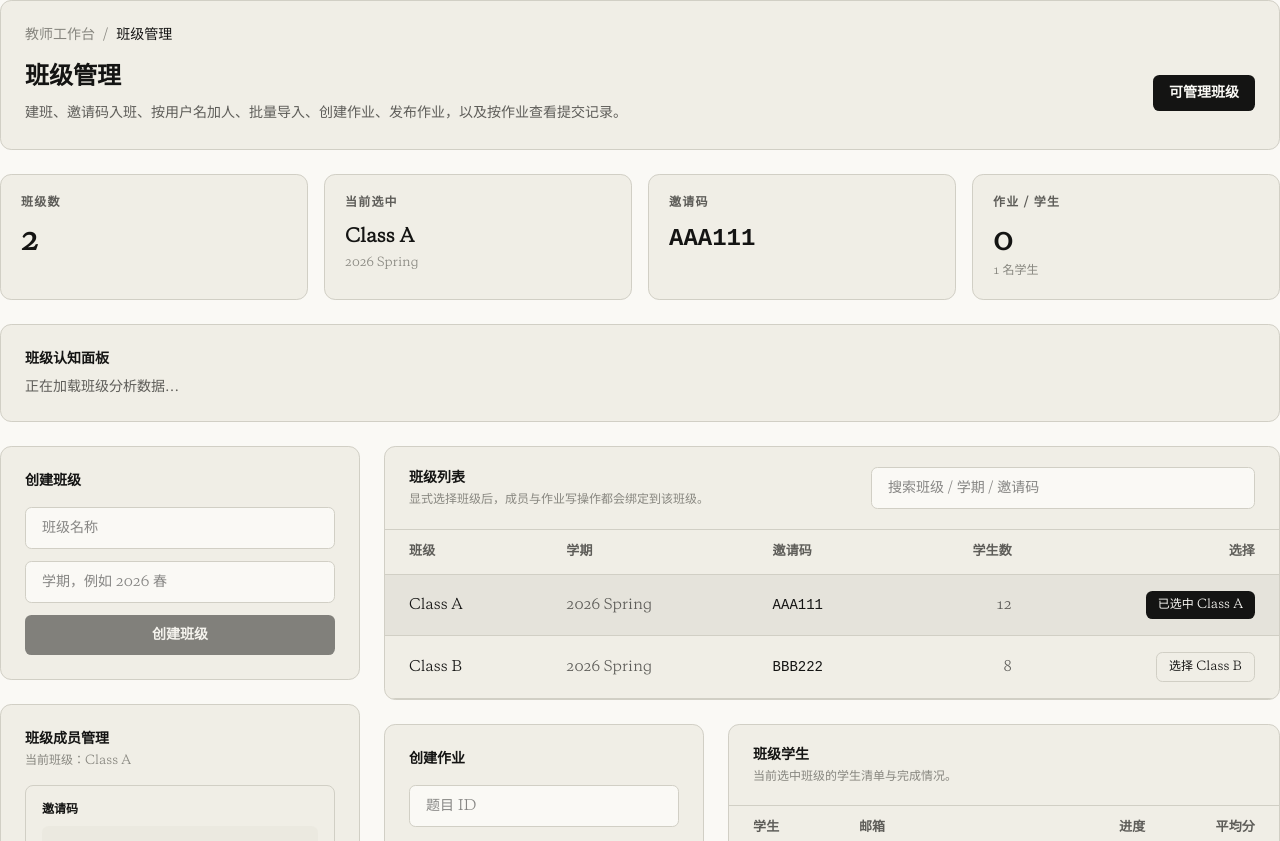
Scenario: ClassManagement › lets the teacher select a class explicitly and loads the real student roster for that class
The width and height of the screenshot is (1280, 841).
Expected: the button "已选中 Class A" is shown, [1146,590,1255,618]
Click the button "选择 Class B".
click(1206, 666)  # box [1156,652,1255,682]
(page scrolled)
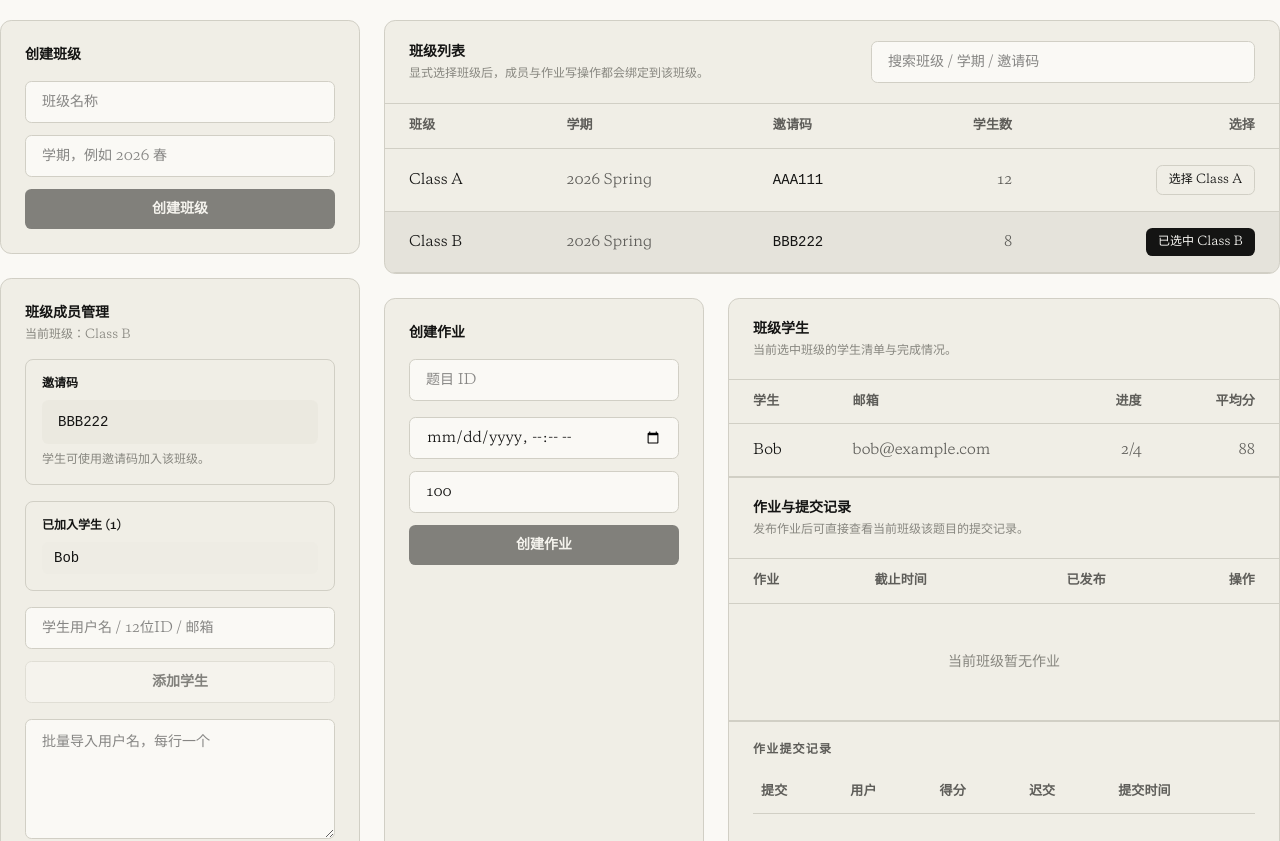
Expected: the text "当前班级：Class B" is shown, [25,328,131,341]
Expected: the button "已选中 Class B" is shown, [1146,228,1255,256]
Expected: the text "bob@example.com" is shown, [828,424,1069,476]
